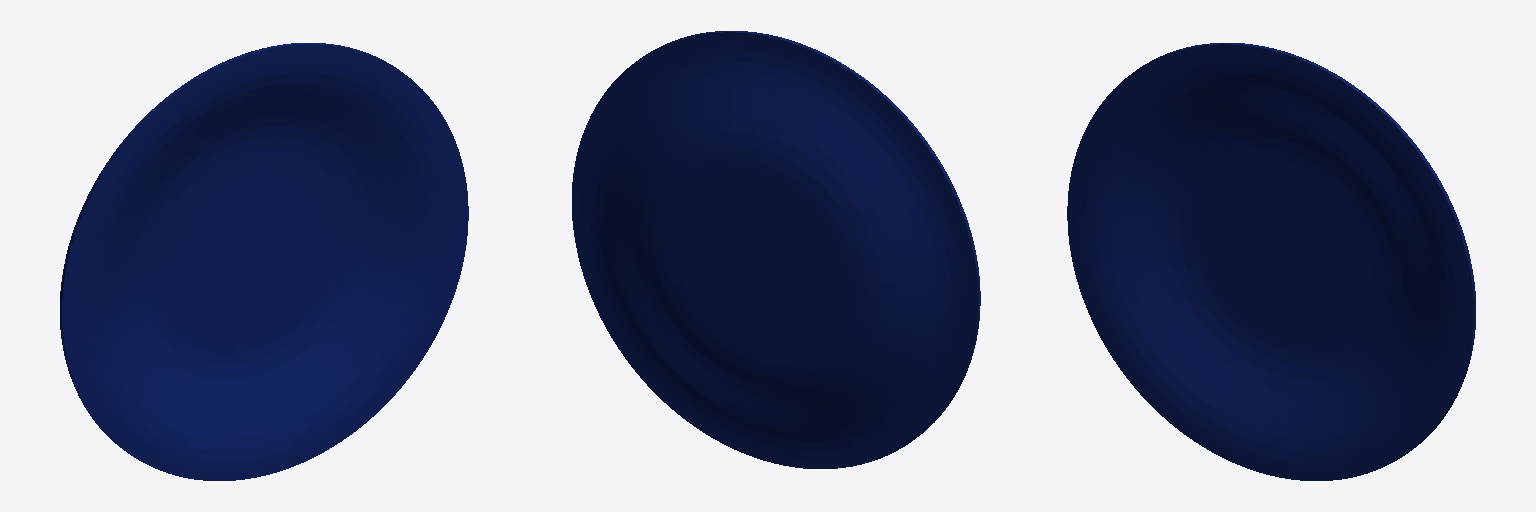
Rendered from plate.obj.
3 renders of one model, left to right at view 1: azimuth 30°, elevation 25°; view 2: azimuth 150°, elevation 25°; view 3: azimuth 330°, elevation 25°, orthographic.
Parts seen in each view (by area): view 1: Circle_Circle.006; view 2: Circle_Circle.006; view 3: Circle_Circle.006.
Boxes of the visible parts, x1=… form: Circle_Circle.006: x1=60, y1=43, x2=468, y2=480; Circle_Circle.006: x1=572, y1=31, x2=980, y2=468; Circle_Circle.006: x1=1067, y1=43, x2=1475, y2=480.
Bounding box in the file's own units: 0.2981 × 0.2981 × 0.0237.